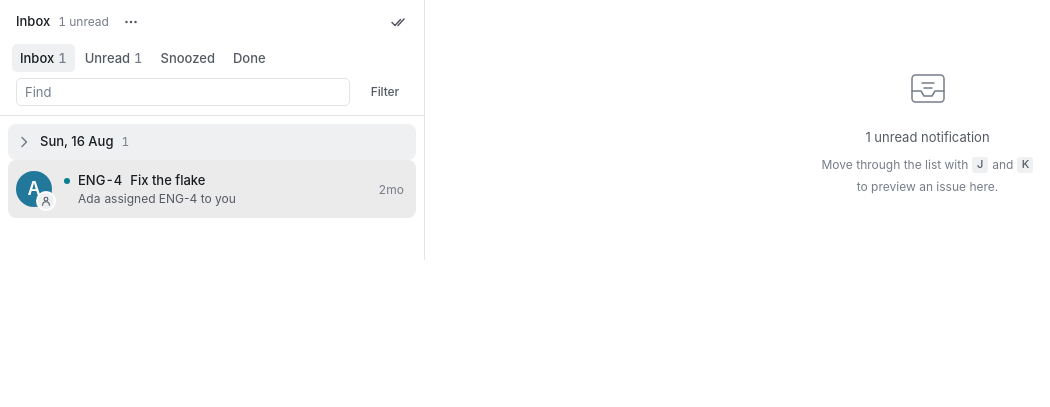
Scenario: the empty inbox › says a find matched nothing, and clears it from the empty state
Type "nothingatall" into the field named "Find in inbox". click: {"x": 183, "y": 92}
box: [25, 78, 341, 104]
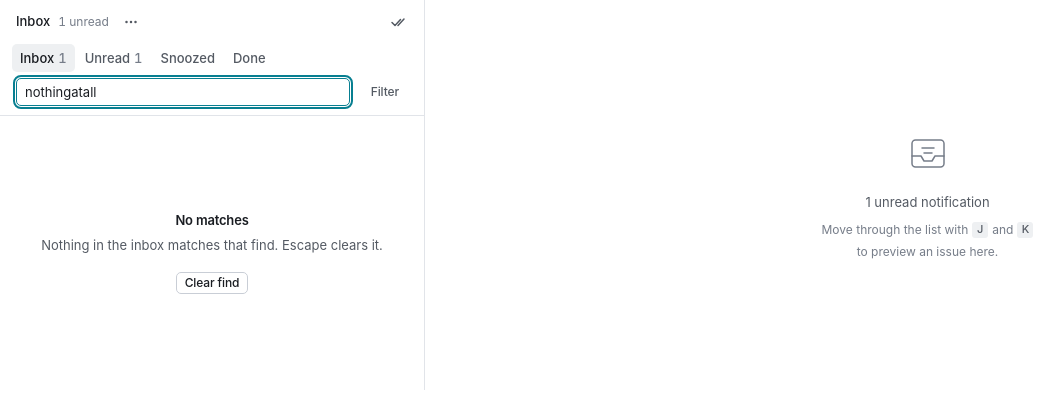
Now the text "No matches" is shown, box [175, 212, 249, 228]
Click the button "Clear find". click: {"x": 212, "y": 283}
box: [176, 272, 248, 294]
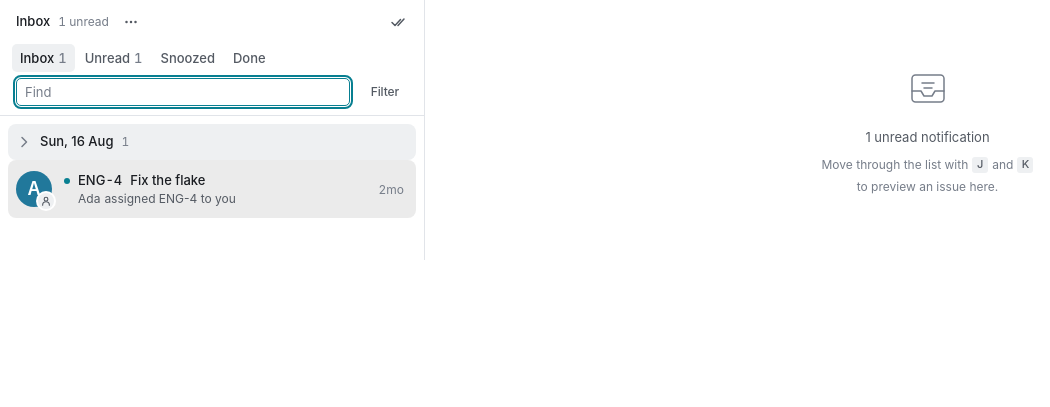
Now the text "assigned ENG-4 to you" is shown, box [104, 191, 236, 206]
